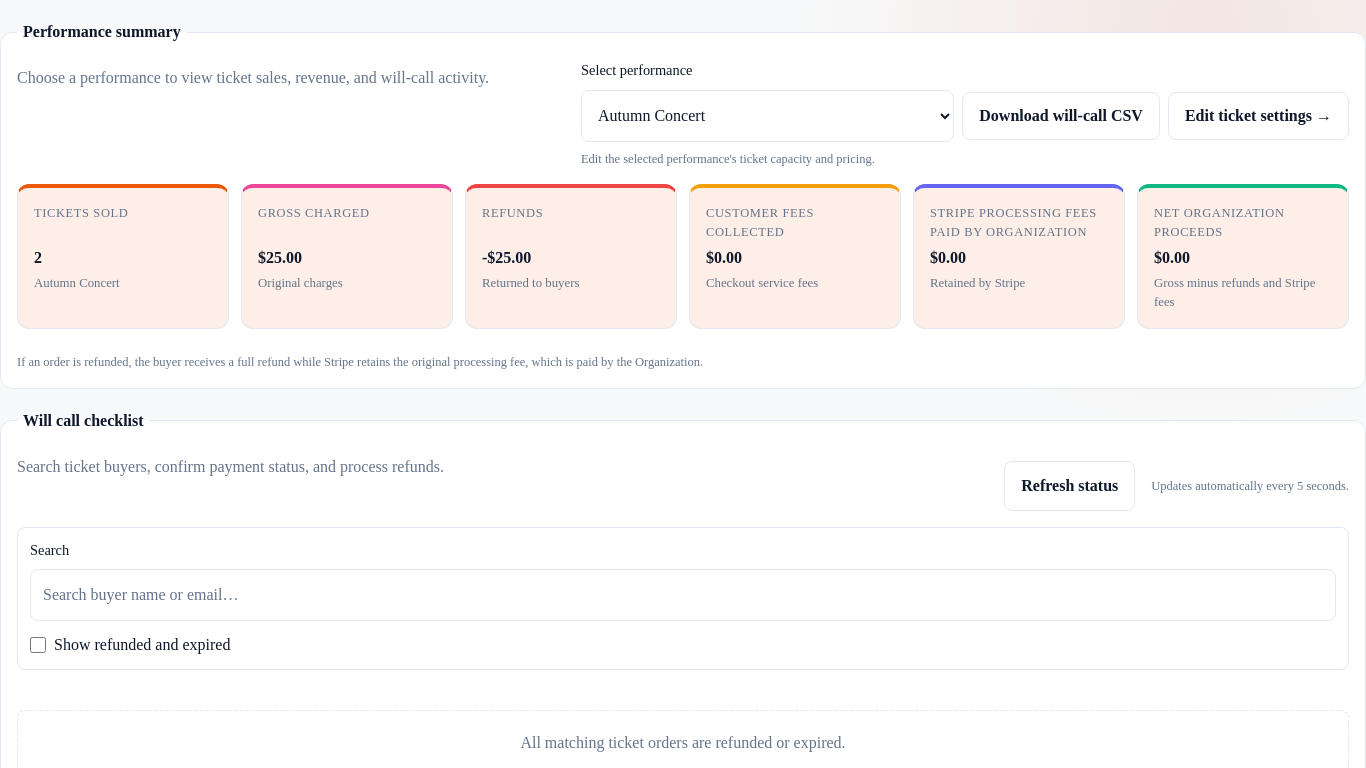
Test case: WillCallPanel refunded and expired orders › distinguishes a hidden refunded purchase from a performance with no orders
Expected: the text "All matching ticket orders are refunded or expired." is shown, left=520, top=732, right=846, bottom=756
Click the checkbox labelled "Show refunded and expired" at [38, 646], box left=30, top=638, right=46, bottom=654
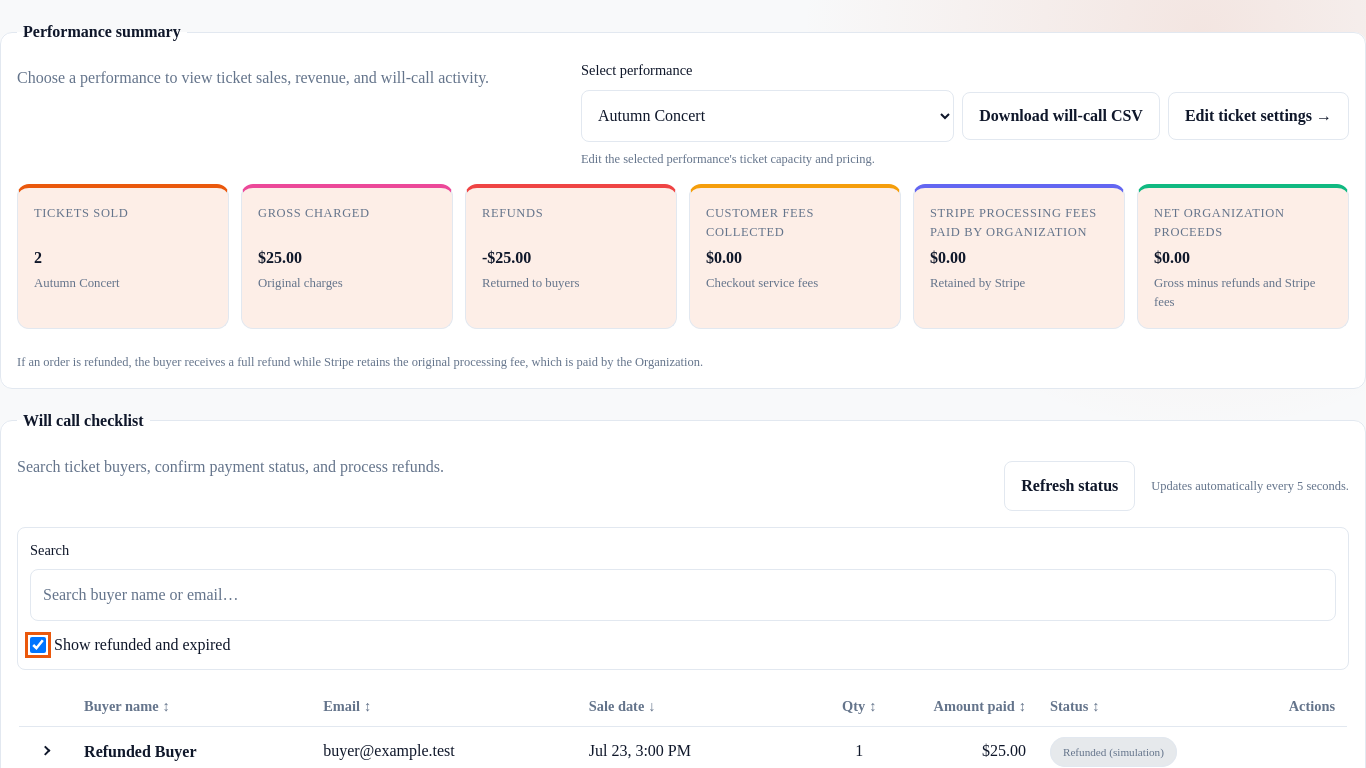
Expected: the text "Refunded Buyer" is shown, left=84, top=740, right=197, bottom=764
Expected: the text "All matching ticket orders are refunded or expired." is gone
